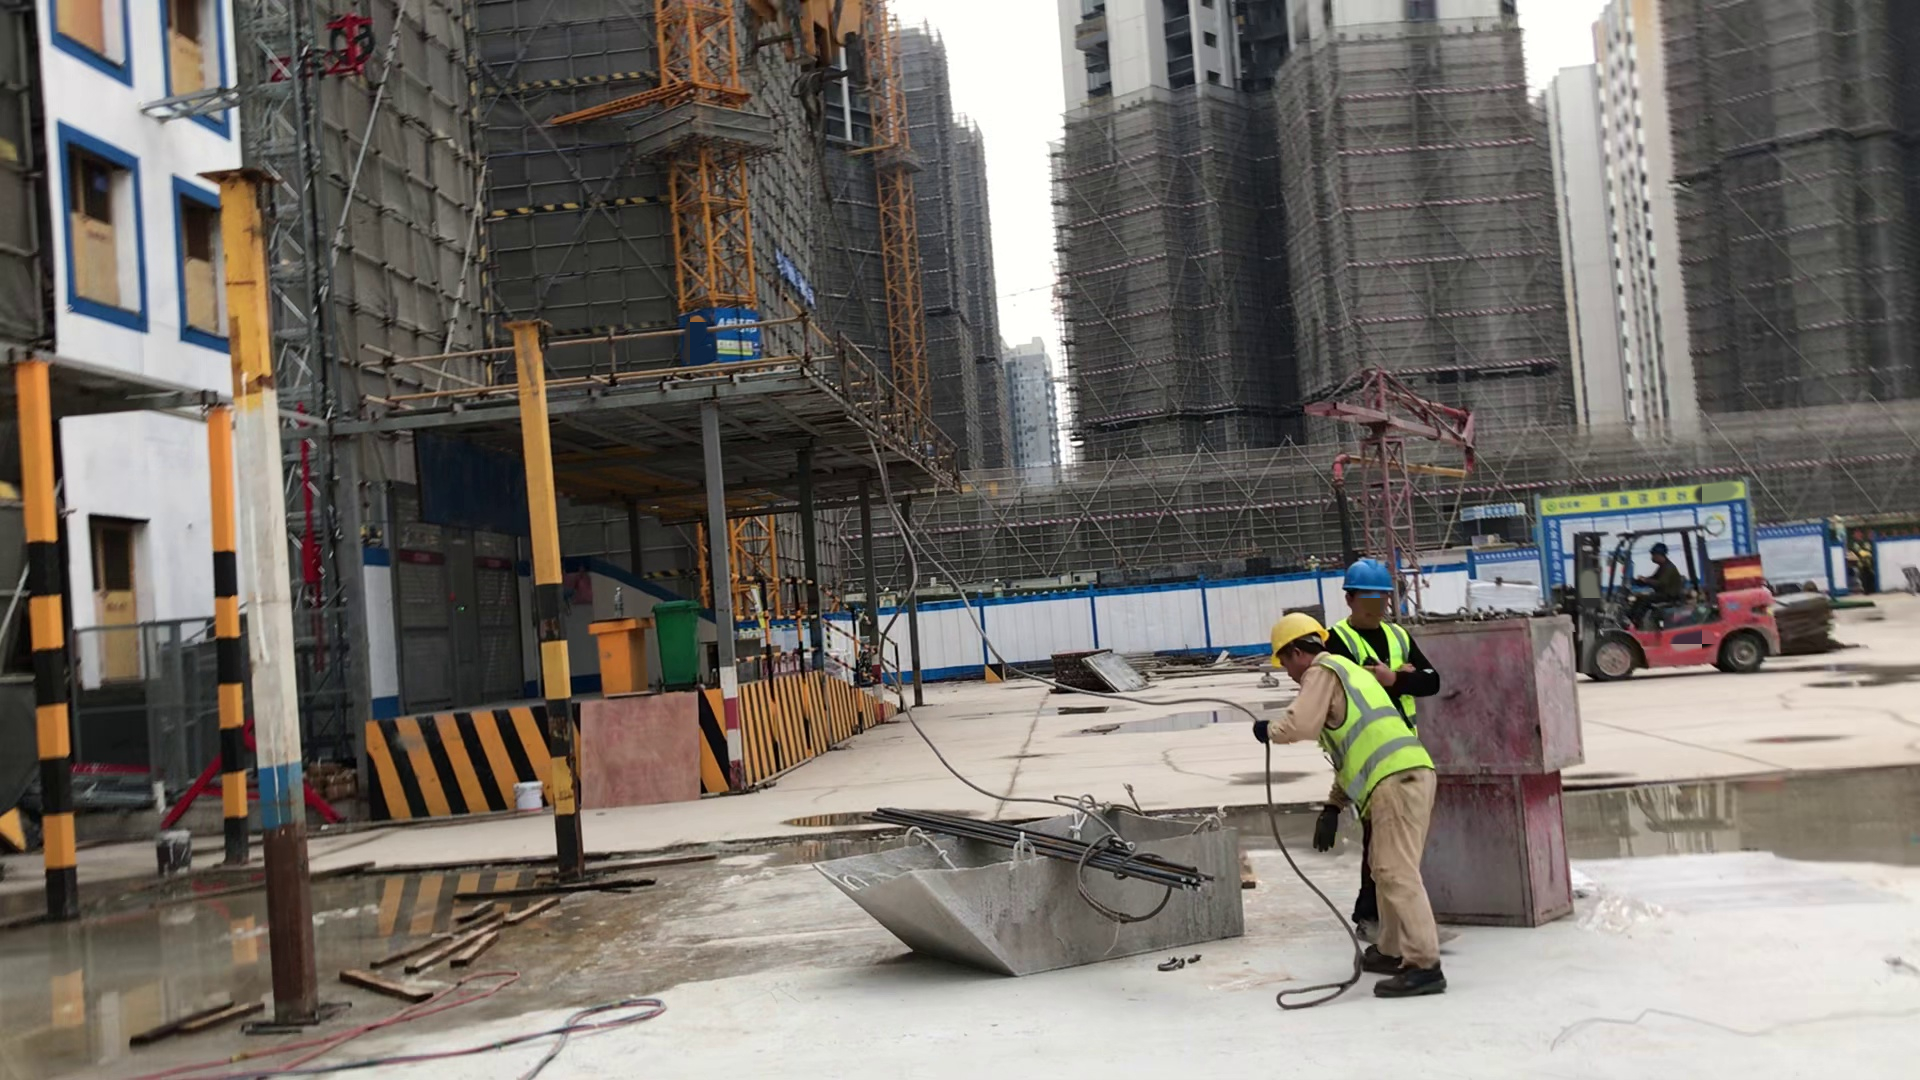board: (1773, 587, 1867, 657), (1081, 651, 1151, 693)
brick: (1468, 572, 1542, 620)
fence: (721, 564, 933, 716)
helmet: (1338, 554, 1406, 612), (1270, 607, 1338, 661), (1647, 538, 1681, 566)
hopper: (795, 793, 1269, 993)
person: (1236, 600, 1482, 1019), (1323, 538, 1471, 889), (1628, 533, 1706, 649)
rebar: (850, 796, 1233, 909)
slogan: (1531, 487, 1763, 578), (672, 297, 764, 373), (1457, 539, 1564, 604), (1744, 515, 1835, 581), (754, 239, 826, 309), (1448, 492, 1533, 531)
vest: (1295, 649, 1433, 803), (1325, 597, 1444, 742)
